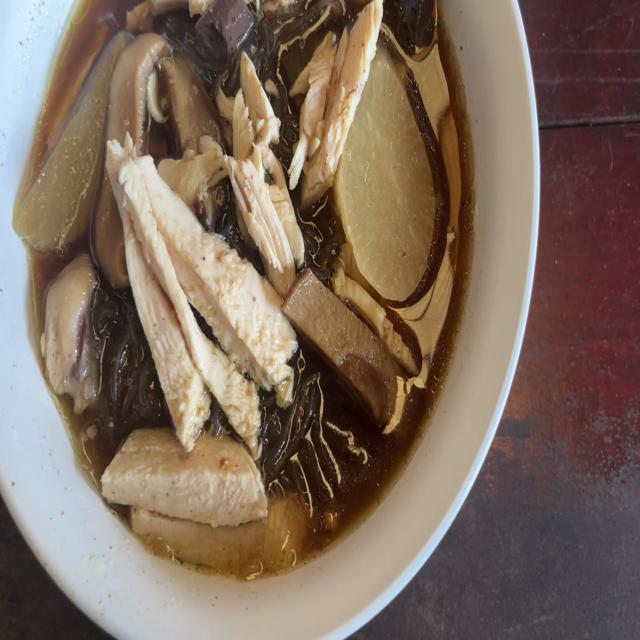noodle: (197, 0, 246, 69), (384, 0, 436, 53)
